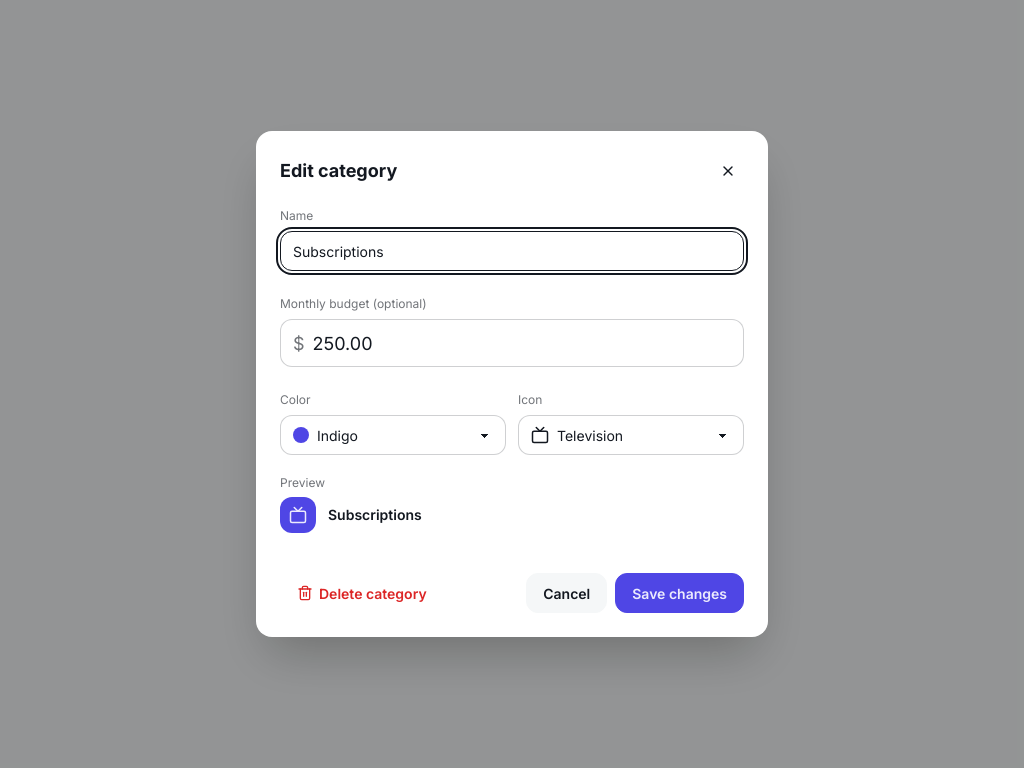
Test: validation › clears a field’s message as soon as that field is fixed
The width and height of the screenshot is (1024, 768).
Clear the field labelled "Name": (512, 251) [280,231,744,271]
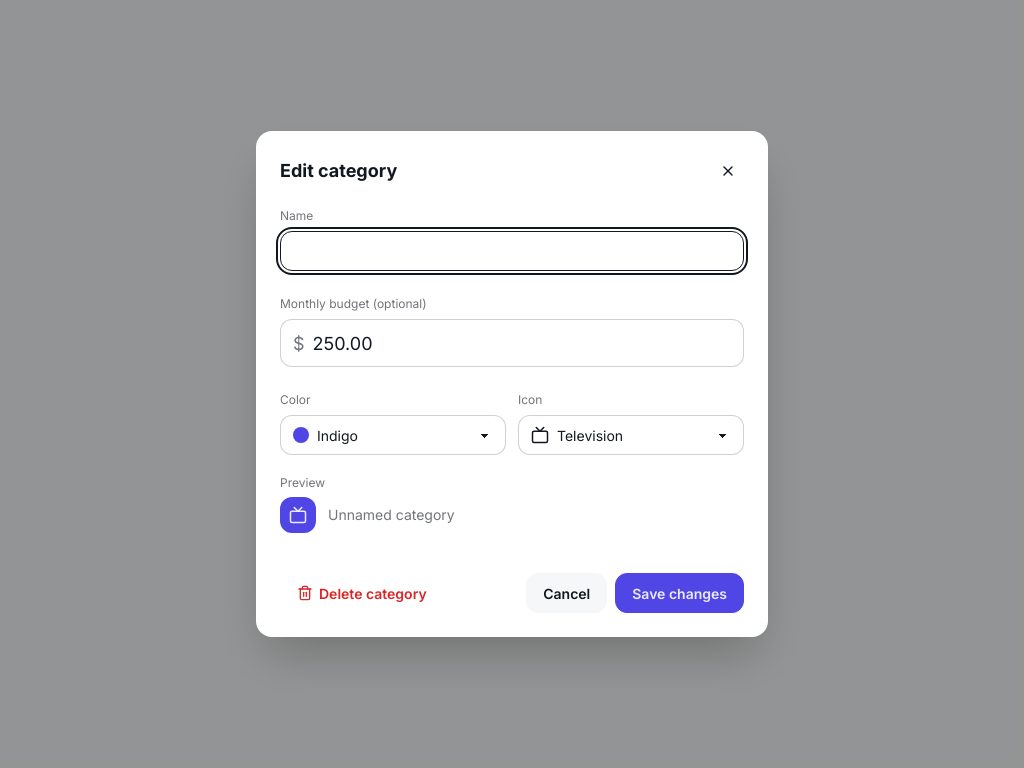
Click the button "Save changes": (680, 593) [615,573,744,613]
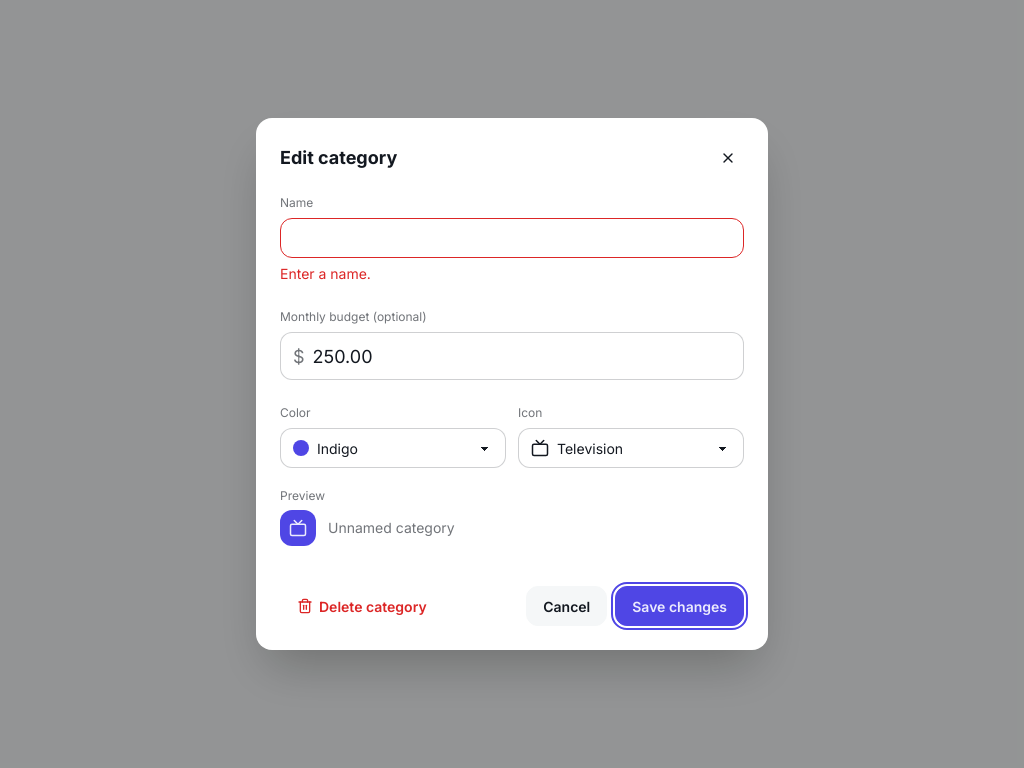
Expected: the text "Enter a name." is shown, [280,265,371,282]
In the field labelled "Name": (512, 238) [280,218,744,258], type "S"
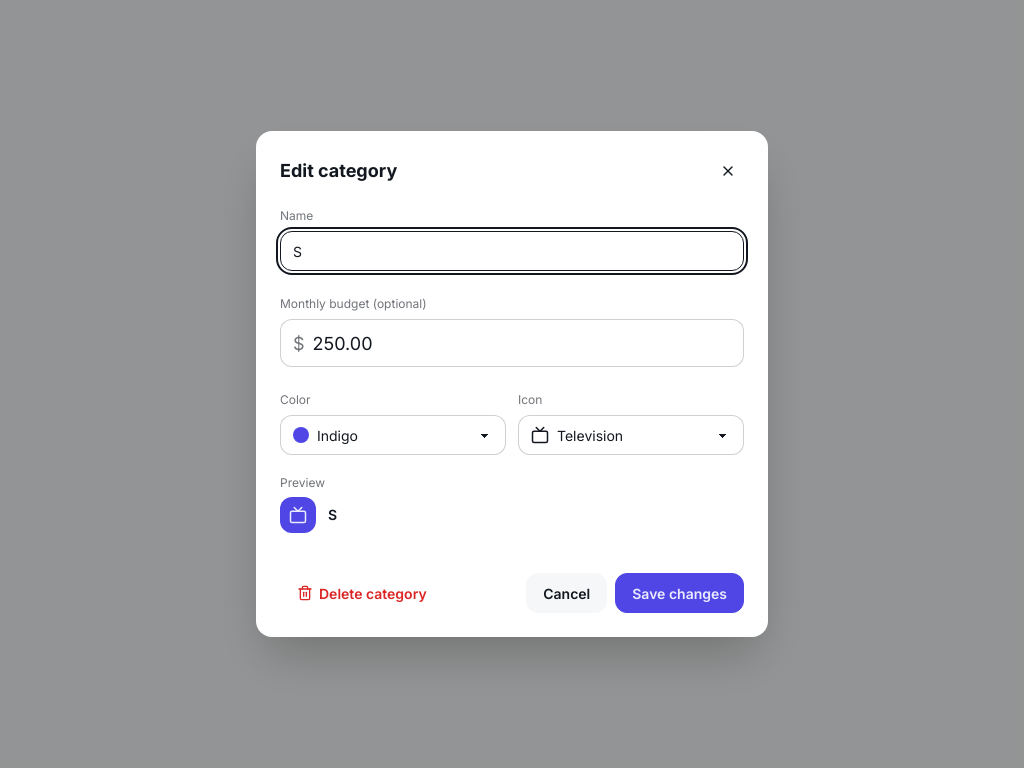
Expected: the text "Enter a name." is gone
